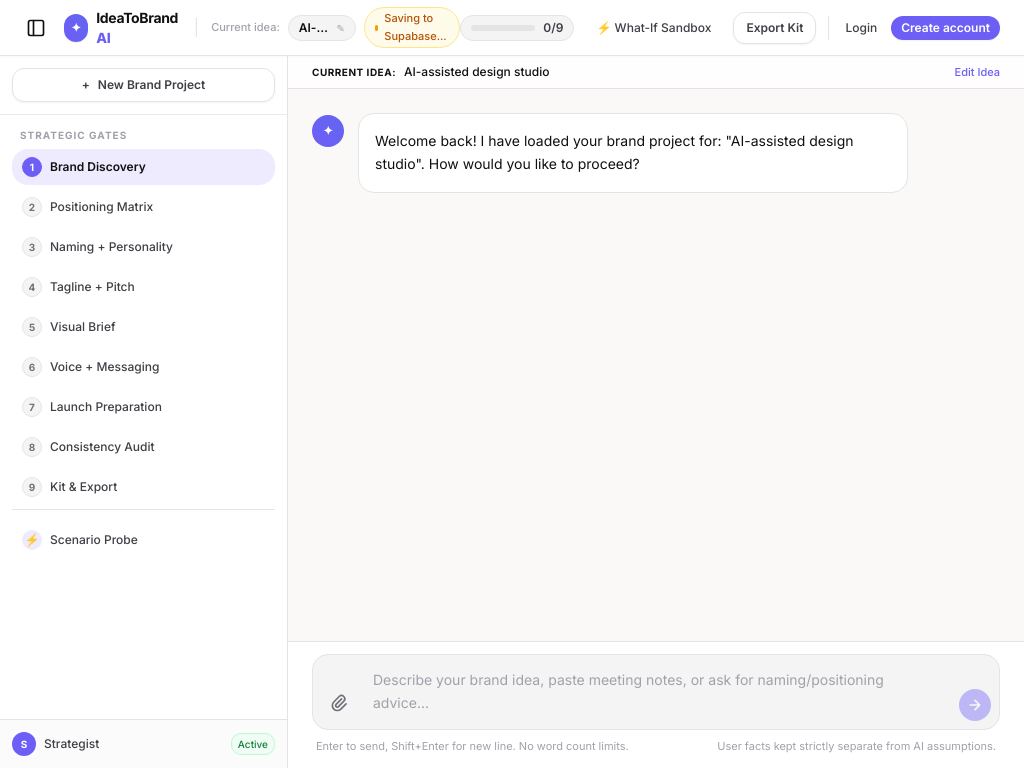
Test: Frontend Integration Fix — Chat UX & Idea Submission › 15. Error state renders friendly message with retry option on failure
The image size is (1024, 768).
Replace the text in the text box named "chat input message" with "Next step please": (658, 692) [365,663,951,721]
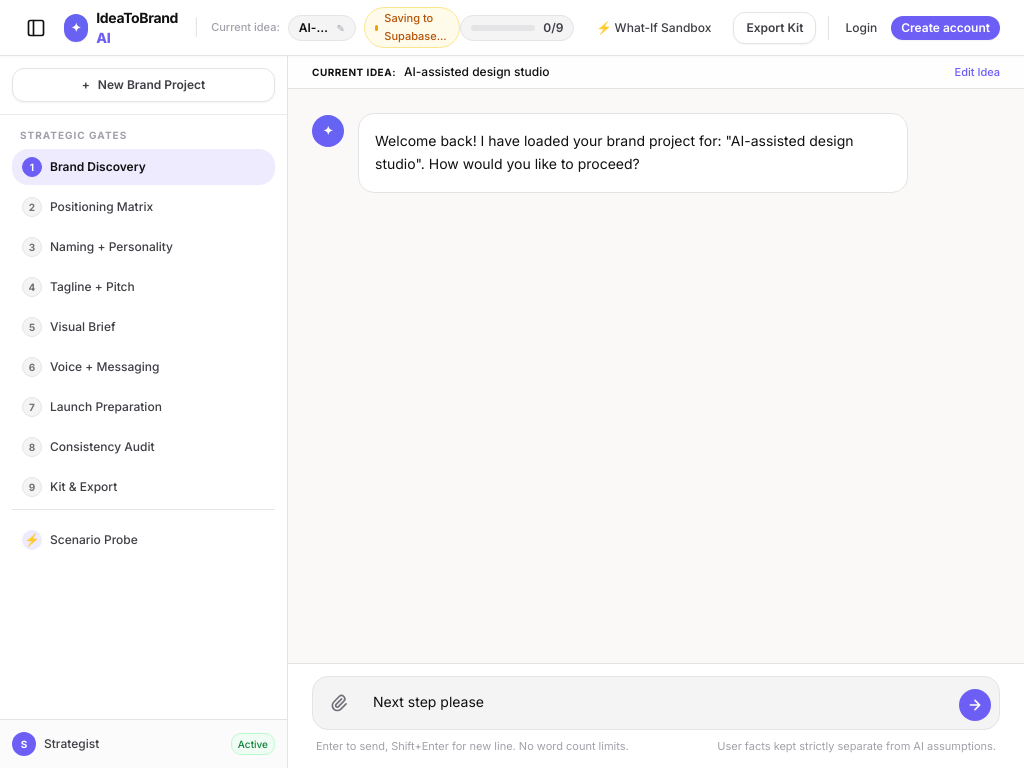
Click the button named "send message": (975, 705) [959,689,991,721]
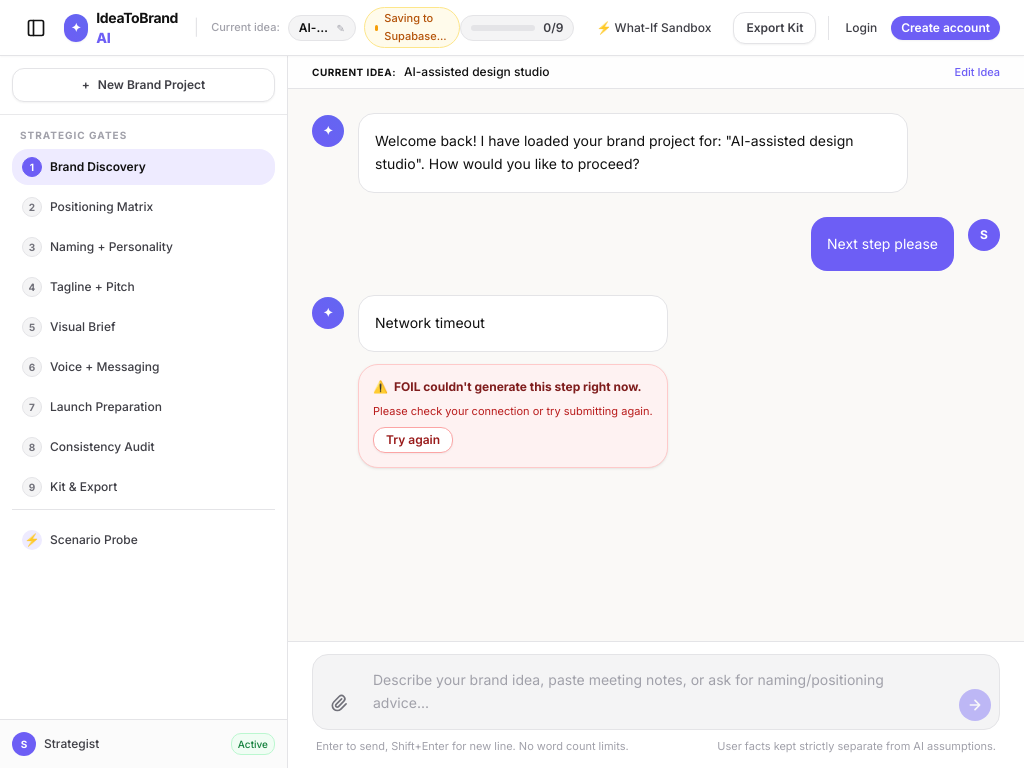
Now the button "Try again" is shown, box [373,427,453,453]
